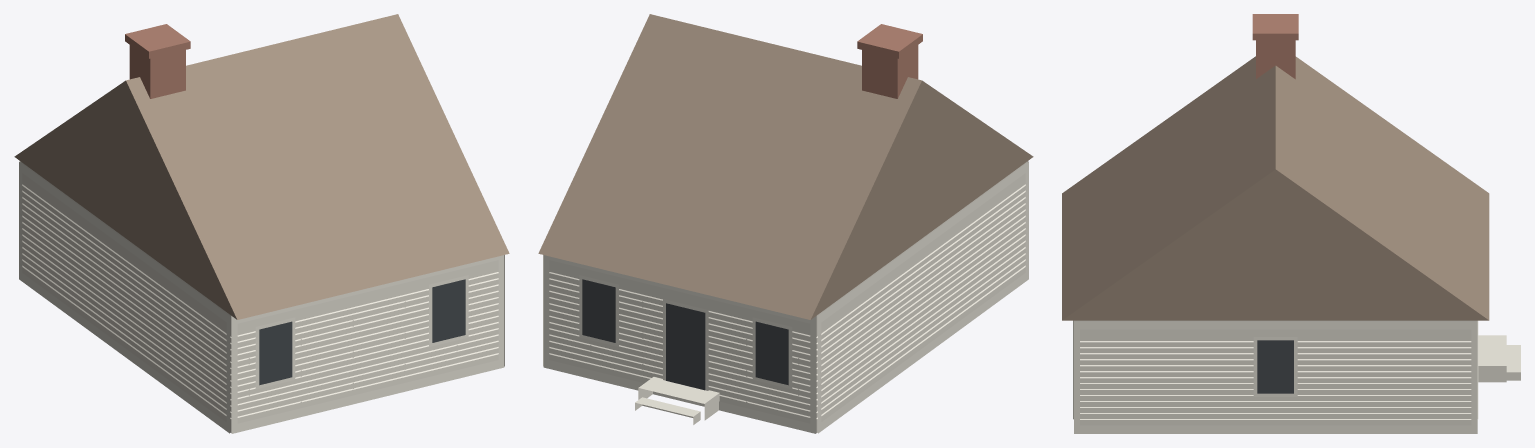
File: recon_1835_blk_randolph_wells_d4_04__inferred_1835.glb
3 renders of one model, left to right at view 1: azimuth 30°, elevation 25°; view 2: azimuth 150°, elevation 25°; view 3: azimuth 270°, elevation 25°, orthographic. The views are drawn at different scales.
Parts seen in each view (by area): view 1: recon_1835_blk_randolph_wells_d4_04__inferred_1835; view 2: recon_1835_blk_randolph_wells_d4_04__inferred_1835; view 3: recon_1835_blk_randolph_wells_d4_04__inferred_1835.
Part boxes in pixels (x1,y1,x2,y2): recon_1835_blk_randolph_wells_d4_04__inferred_1835: (14, 14, 509, 433); recon_1835_blk_randolph_wells_d4_04__inferred_1835: (538, 14, 1033, 433); recon_1835_blk_randolph_wells_d4_04__inferred_1835: (1062, 14, 1520, 433).
Size of the model in its own units: 6.47 by 6.96 by 9.73.
